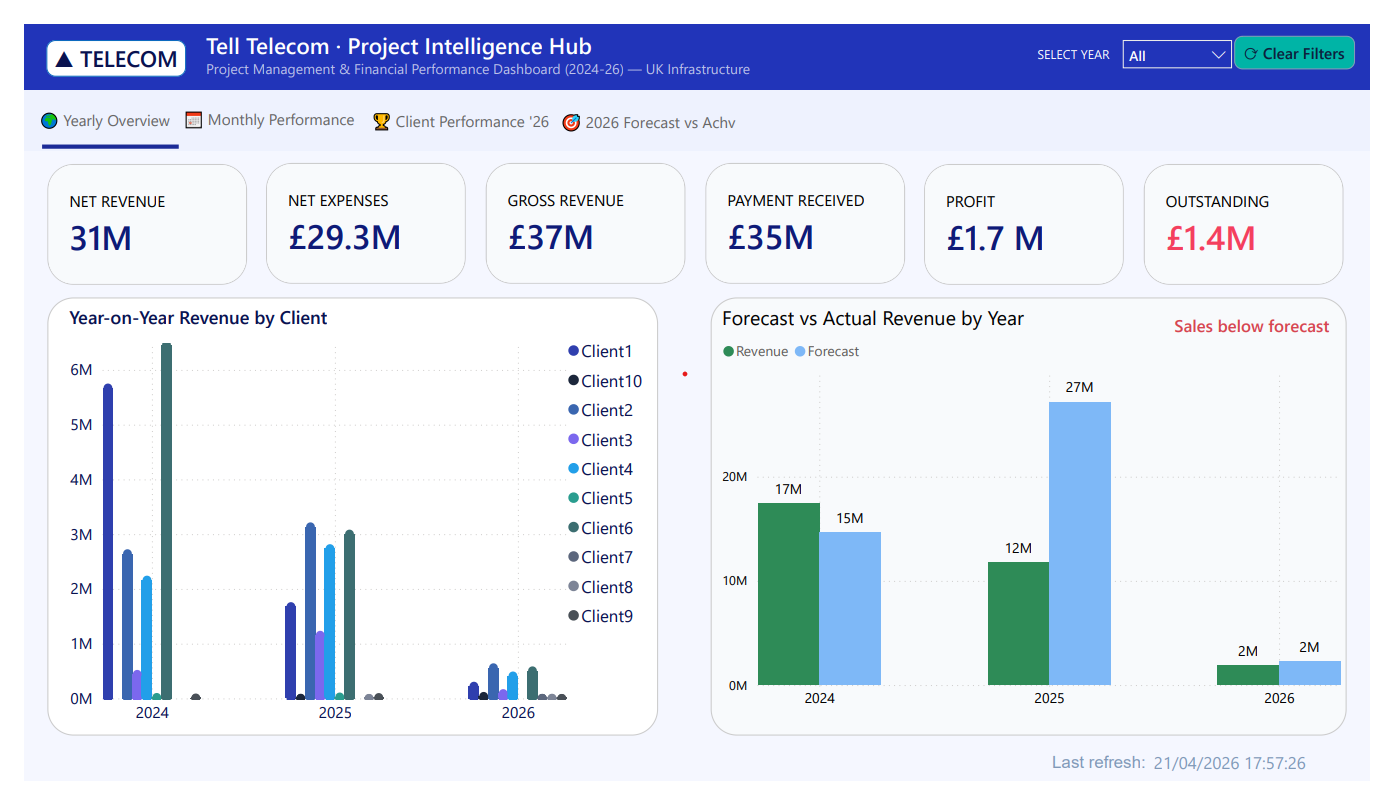

The dashboard page shown, as its layout file describes it:
{"tool":"powerbi","page":{"name":"Yearly overview","canvas":[1280,720],"ordinal":2},"visuals":[{"type":"shape","box":[0,62.5,1280,55],"z":0},{"type":"cardVisual","fields":{"Rows":["Last refreshed.Last Refreshed Time"]},"box":[841.4,0,135.7,65.9],"z":1000},{"type":"cardVisual","fields":{"Data":["Measure Table2.Total Sale_excl_VAT"]},"box":[37.9,131.8,190,115],"z":2000},{"type":"group","id":"g1","title":"Group 2","box":[640,260,606.7,416.7],"z":4000},{"type":"textbox","box":[738.6,14,104.3,30.9],"z":5000},{"type":"cardVisual","fields":{"Data":["Measure Table2.Payment Recieved"]},"box":[645.7,131.8,190,115],"z":6000},{"type":"clusteredColumnChart","title":"Forecast vs Actual Revenue by Year","fields":{"Category":["Date Table.Date.Variation.Date Hierarchy.Year"],"Y":["Measure Table2.Net Sale","Measure Table2.Forecast Value"]},"box":[640,260,602.4,416.7],"z":6000,"group":"g1"},{"type":"cardVisual","fields":{"Data":["Measure Table2.Profit (M)"]},"box":[848.3,131.8,190,115],"z":7000},{"type":"cardVisual","fields":{"Data":["Measure Table2.Revenue Insight"]},"box":[1058.1,271.7,188.6,25],"z":7000,"group":"g1"},{"type":"cardVisual","fields":{"Data":["Measure Table2.Gross Outstanding"]},"box":[1051,131.8,190,115],"z":8000},{"type":"cardVisual","fields":{"Data":["Measure Table2.Net Expense"]},"box":[240.5,131.8,190,115],"z":9000},{"type":"cardVisual","fields":{"Data":["Measure Table2.Gross Revenue"]},"box":[443.1,131.8,190,115],"z":10000},{"type":"textbox","box":[0,0,1280,62.5],"z":11000},{"type":"shape","box":[0,111.1,1280,11.1],"z":12000},{"type":"textbox","box":[169,0,477.1,74.3],"z":13000},{"type":"shape","title":"▲ TELIGENT","box":[21.2,15.4,133.2,34.8],"z":14000},{"type":"actionButton","box":[1151.2,11.2,115,31.2],"z":16000},{"type":"textbox","box":[973.1,689.2,119.6,30.8],"z":17000},{"type":"card","fields":{"Values":["Min(Last refreshed.Last Refreshed Time)"]},"box":[1065.5,690.4,163.1,29],"z":18000},{"type":"actionButton","box":[4.3,75,160.1,40.4],"z":19000},{"type":"actionButton","box":[636.6,76.4,138.5,39],"z":20000},{"type":"actionButton","box":[335.7,75.7,135.7,38.6],"z":21000},{"type":"actionButton","box":[471.9,75.4,171.7,40.4],"z":22000},{"type":"actionButton","box":[769.4,73.5,112.5,40.4],"z":23000},{"type":"shape","box":[20.2,95.2,132.7,34.6],"z":24000},{"type":"shape","box":[176,95.2,144.3,33.2],"z":25000},{"type":"shape","box":[346.3,98.1,119.7,33.2],"z":26000},{"type":"shape","box":[784.1,94.8,105.3,33.2],"z":27000},{"type":"shape","box":[856.3,96.4,100,33.3],"z":28000},{"type":"actionButton","box":[877.9,74.6,181.8,39],"z":29000},{"type":"shape","box":[918.3,94,141.4,33.2],"z":30000},{"type":"actionButton","box":[157.1,75.7,178.6,40],"z":31000},{"type":"shape","box":[940.8,96.6,155.8,33.2],"z":32000},{"type":"shape","box":[473.9,94.7,170.2,34.6],"z":33000},{"type":"textbox","box":[958.8,13.8,81.2,30],"z":34000},{"type":"slicer","title":"Select Year","fields":{"Values":["Date Table.Date.Variation.Date Hierarchy.Year1"]},"box":[1040,10,113.8,32.5],"z":35000},{"type":"columnChart","title":"Year-on-Year Revenue by Client","fields":{"Category":["Date Table.Date.Variation.Date Hierarchy.Year"],"Series":["Clients.Client"],"Y":["Measure Table 2.Net Sale"]},"box":[43.3,260,568.3,416.7],"z":36000}]}

Visuals, with their boxes in screenshot pixels (x1, y1, x2, y2), scaled from the page's 1280x720 canvas onto the 1392x801 screenshot:
shape: (left=0, top=70, right=1391, bottom=131)
cardVisual - Last refreshed.Last Refreshed Time: (left=915, top=0, right=1063, bottom=73)
cardVisual - Measure Table2.Total Sale_excl_VAT: (left=41, top=147, right=248, bottom=275)
"Group 2" group: (left=696, top=289, right=1356, bottom=753)
textbox: (left=803, top=16, right=917, bottom=50)
cardVisual - Measure Table2.Payment Recieved: (left=702, top=147, right=909, bottom=275)
"Forecast vs Actual Revenue by Year" clusteredColumnChart: (left=696, top=289, right=1351, bottom=753)
cardVisual - Measure Table2.Profit (M): (left=923, top=147, right=1129, bottom=275)
cardVisual - Measure Table2.Revenue Insight: (left=1151, top=302, right=1356, bottom=330)
cardVisual - Measure Table2.Gross Outstanding: (left=1143, top=147, right=1350, bottom=275)
cardVisual - Measure Table2.Net Expense: (left=262, top=147, right=468, bottom=275)
cardVisual - Measure Table2.Gross Revenue: (left=482, top=147, right=688, bottom=275)
textbox: (left=0, top=0, right=1391, bottom=70)
shape: (left=0, top=124, right=1391, bottom=136)
textbox: (left=184, top=0, right=703, bottom=83)
"▲ TELIGENT" shape: (left=23, top=17, right=168, bottom=56)
actionButton: (left=1252, top=12, right=1377, bottom=47)
textbox: (left=1058, top=767, right=1188, bottom=800)
card - Min(Last refreshed.Last Refreshed Time): (left=1159, top=768, right=1336, bottom=800)
actionButton: (left=5, top=83, right=179, bottom=128)
actionButton: (left=692, top=85, right=843, bottom=128)
actionButton: (left=365, top=84, right=513, bottom=127)
actionButton: (left=513, top=84, right=700, bottom=129)
actionButton: (left=837, top=82, right=959, bottom=127)
shape: (left=22, top=106, right=166, bottom=144)
shape: (left=191, top=106, right=348, bottom=143)
shape: (left=377, top=109, right=507, bottom=146)
shape: (left=853, top=105, right=967, bottom=142)
shape: (left=931, top=107, right=1040, bottom=144)
actionButton: (left=955, top=83, right=1152, bottom=126)
shape: (left=999, top=105, right=1152, bottom=142)
actionButton: (left=171, top=84, right=365, bottom=129)
shape: (left=1023, top=107, right=1193, bottom=144)
shape: (left=515, top=105, right=700, bottom=144)
textbox: (left=1043, top=15, right=1131, bottom=49)
"Select Year" slicer: (left=1131, top=11, right=1255, bottom=47)
"Year-on-Year Revenue by Client" columnChart: (left=47, top=289, right=665, bottom=753)
